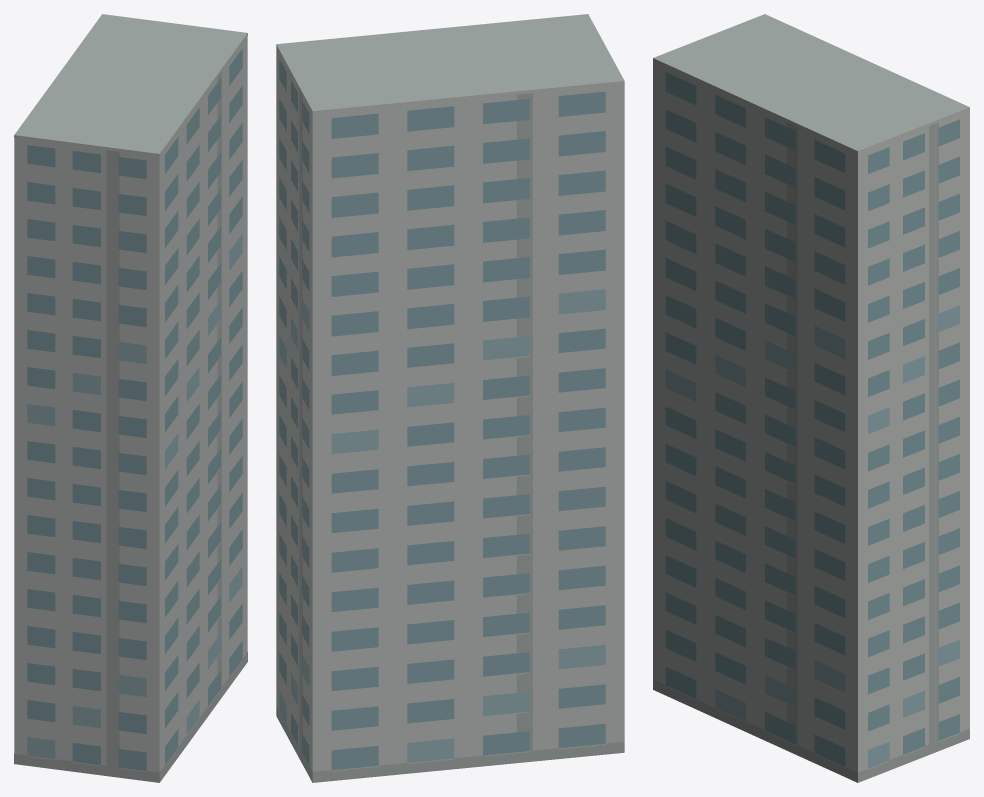
The model's file is residential-5f599fa0-7a0a-4c7d-9c85-be35211205af.glb.
3 views of the same model, side by side, from view 1: azimuth 30°, elevation 25°; view 2: azimuth 150°, elevation 25°; view 3: azimuth 270°, elevation 25° (orthographic). The views are drawn at different scales.
Parts seen in each view (by area): view 1: residential-5f599fa0-7a0a-4c7d-9c85-be35211205af.tmp; view 2: residential-5f599fa0-7a0a-4c7d-9c85-be35211205af.tmp; view 3: residential-5f599fa0-7a0a-4c7d-9c85-be35211205af.tmp.
Boxes of the visible parts, box(x1,y1,x2,y2) form: residential-5f599fa0-7a0a-4c7d-9c85-be35211205af.tmp: box(14, 14, 247, 782); residential-5f599fa0-7a0a-4c7d-9c85-be35211205af.tmp: box(276, 14, 624, 782); residential-5f599fa0-7a0a-4c7d-9c85-be35211205af.tmp: box(653, 14, 969, 782).
Size of the model in its own units: 24.69 by 53 by 24.1.
